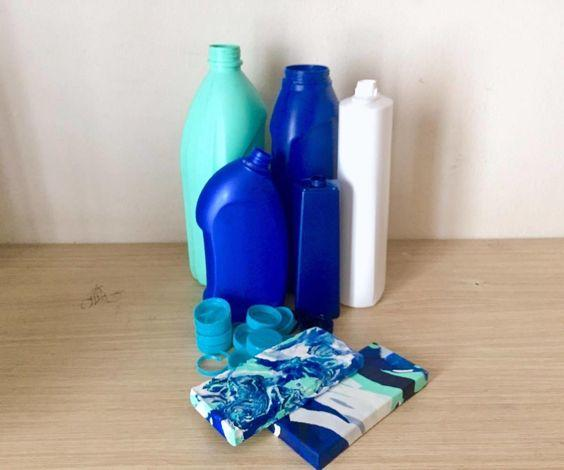HDPE: (179, 42, 271, 288), (269, 62, 340, 296), (194, 147, 287, 320), (336, 77, 395, 310), (292, 174, 341, 320), (192, 297, 232, 335), (244, 328, 284, 358), (245, 302, 281, 330), (195, 333, 233, 357)
